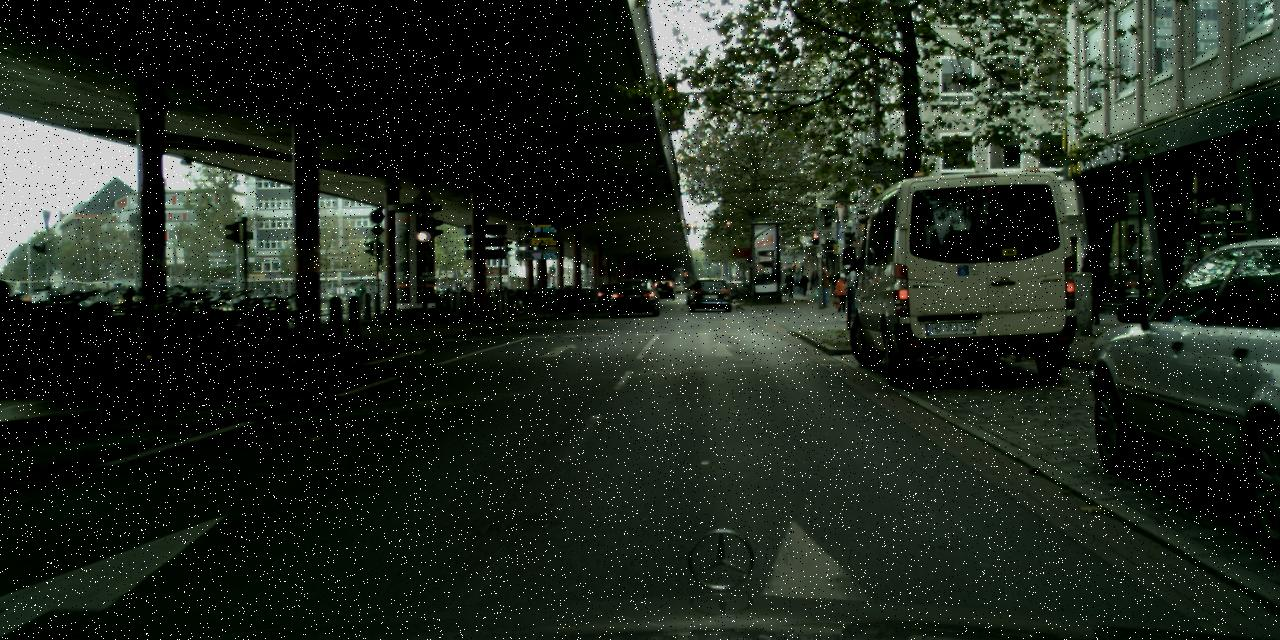ped: (1078, 242, 1111, 324), (816, 264, 834, 308), (834, 272, 850, 312), (354, 280, 367, 312), (809, 269, 822, 300), (784, 272, 794, 297), (799, 272, 809, 295)
